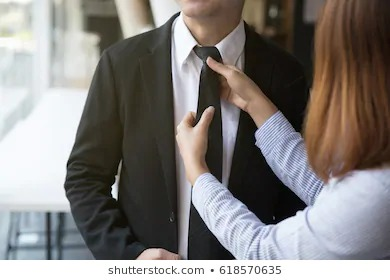F_M_suit jacket: (62, 17, 315, 258)
F_tie: (184, 42, 229, 261)
